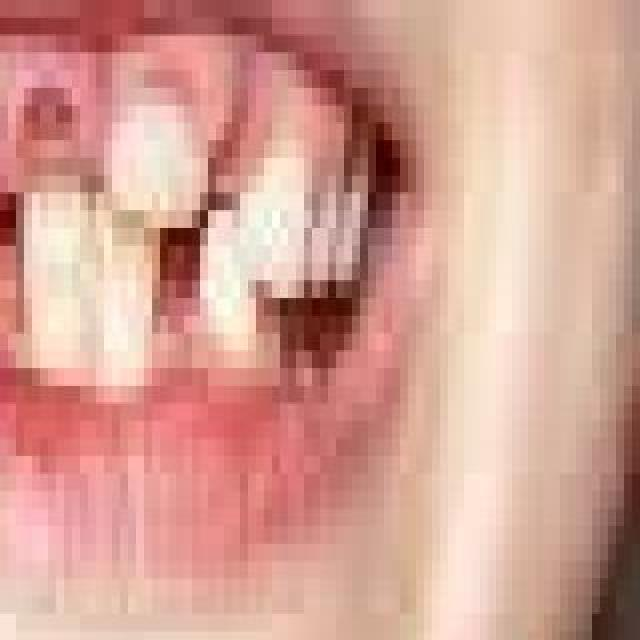missing: (148, 210, 214, 388), (211, 125, 261, 271), (0, 208, 32, 366)
